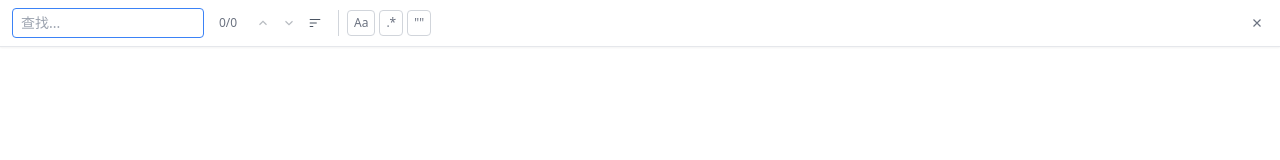
Test case: FindBar › 展开替换面板
点击替换展开按钮
Click the button titled "替换" at (315, 23), box [304,12,326,34]
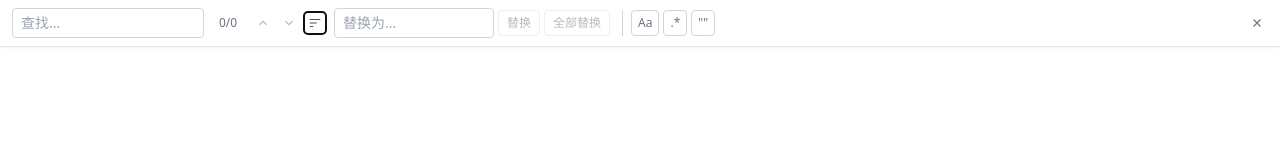
Now the field with placeholder "替换为..." is shown, box [334,8,494,38]
Now the button "替换" is shown, box [498,10,540,36]
Now the button "全部替换" is shown, box [544,10,610,36]
